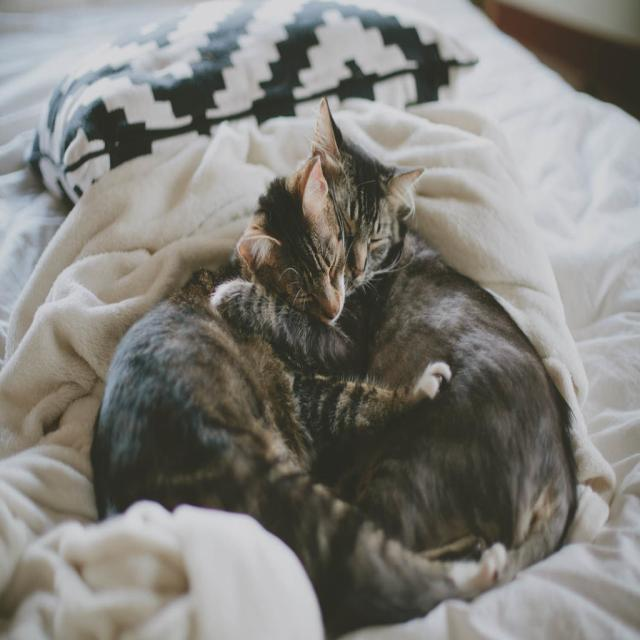Cat: (97, 152, 504, 634), (211, 92, 576, 573)
